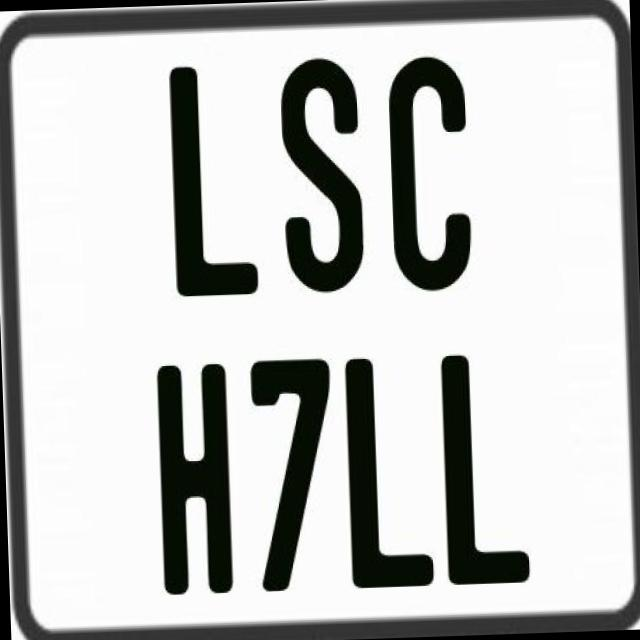7: (246, 358, 336, 592)
C: (386, 52, 476, 289)
H: (155, 364, 231, 600)
L: (340, 353, 438, 586), (437, 350, 529, 583), (167, 64, 258, 298)
S: (278, 51, 364, 288)
